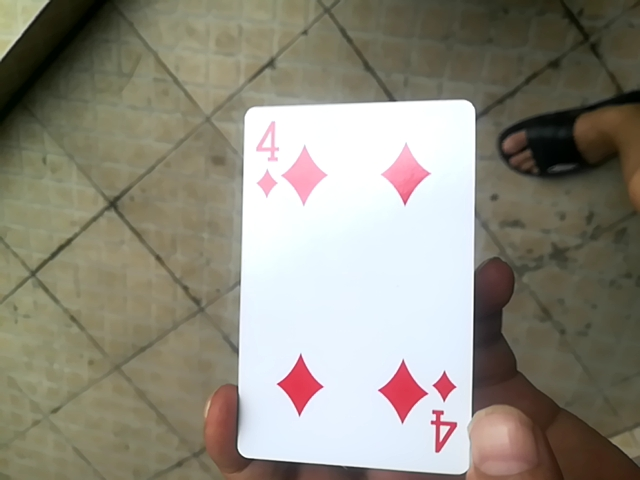fk 4: (246, 109, 480, 480)
